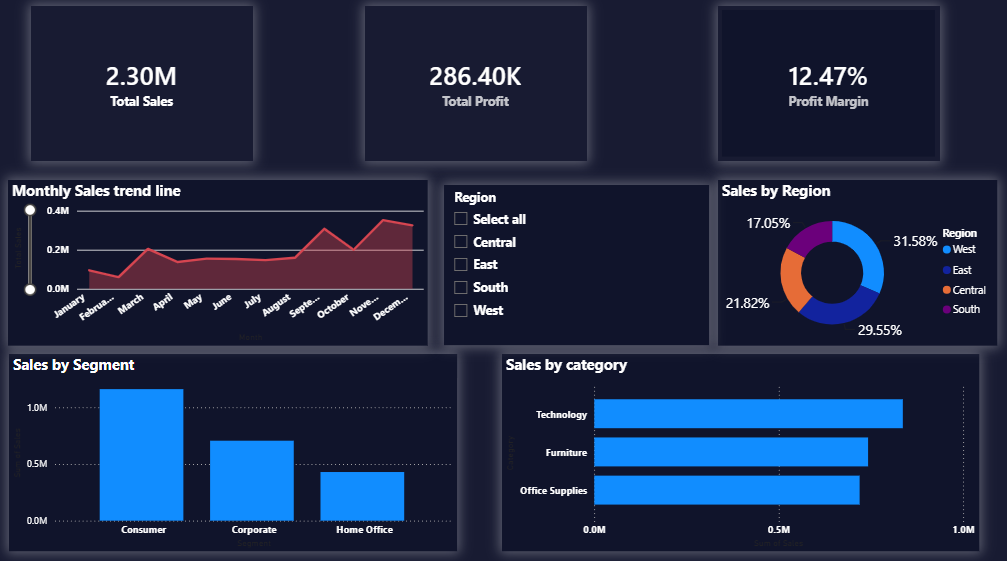

The dashboard page shown, as its layout file describes it:
{"tool":"powerbi","page":{"name":"Page 1","canvas":[1280,720],"ordinal":0},"visuals":[{"type":"cardVisual","fields":{"Data":["Sample - Superstore.Total Sales"]},"box":[43.7,15.1,280.5,196.5],"z":0},{"type":"cardVisual","fields":{"Data":["Sample - Superstore.Total Profit"]},"box":[467,15.1,280.5,196.5],"z":1000},{"type":"cardVisual","title":"PROFIT MARGIN","fields":{"Data":["Sample - Superstore.Profit Margin"]},"box":[913.8,15.1,280.5,196.5],"z":2000},{"type":"clusteredBarChart","title":"Sales by category","fields":{"Category":["Sample - Superstore.Category"],"Y":["Sum(Sample - Superstore.Sales)"]},"box":[640,456.9,604.7,250.3],"z":3000},{"type":"clusteredColumnChart","title":"Sales by Segment","fields":{"Category":["Sample - Superstore.Segment"],"Y":["Sum(Sample - Superstore.Sales)"]},"box":[15.1,456.9,567.8,250.3],"z":4000},{"type":"donutChart","title":" Sales by Region","fields":{"Category":["Sample - Superstore.Region"],"Y":["Sum(Sample - Superstore.Sales)"]},"box":[913.8,235.2,354.4,210],"z":5000},{"type":"slicer","fields":{"Values":["Sample - Superstore.Region"]},"box":[566.1,241.9,336,203.3],"z":6000},{"type":"lineChart","title":"Monthly Sales trend line","fields":{"Category":["Sample - Superstore.Order Date Clean.Variation.Date Hierarchy.Month"],"Y":["Sample - Superstore.Total Sales"]},"box":[13.4,235.2,532.5,210],"z":7000}]}

Visuals, with their boxes in screenshot pixels (x1, y1, x2, y2), scaled from the page's 1280x720 canvas onto the 1007x561 screenshot:
cardVisual - Sample - Superstore.Total Sales: select_region(34, 12, 255, 165)
cardVisual - Sample - Superstore.Total Profit: select_region(367, 12, 588, 165)
"PROFIT MARGIN" cardVisual: select_region(719, 12, 940, 165)
"Sales by category" clusteredBarChart: select_region(504, 356, 979, 551)
"Sales by Segment" clusteredColumnChart: select_region(12, 356, 459, 551)
" Sales by Region" donutChart: select_region(719, 183, 998, 347)
slicer - Sample - Superstore.Region: select_region(445, 188, 710, 347)
"Monthly Sales trend line" lineChart: select_region(11, 183, 429, 347)
